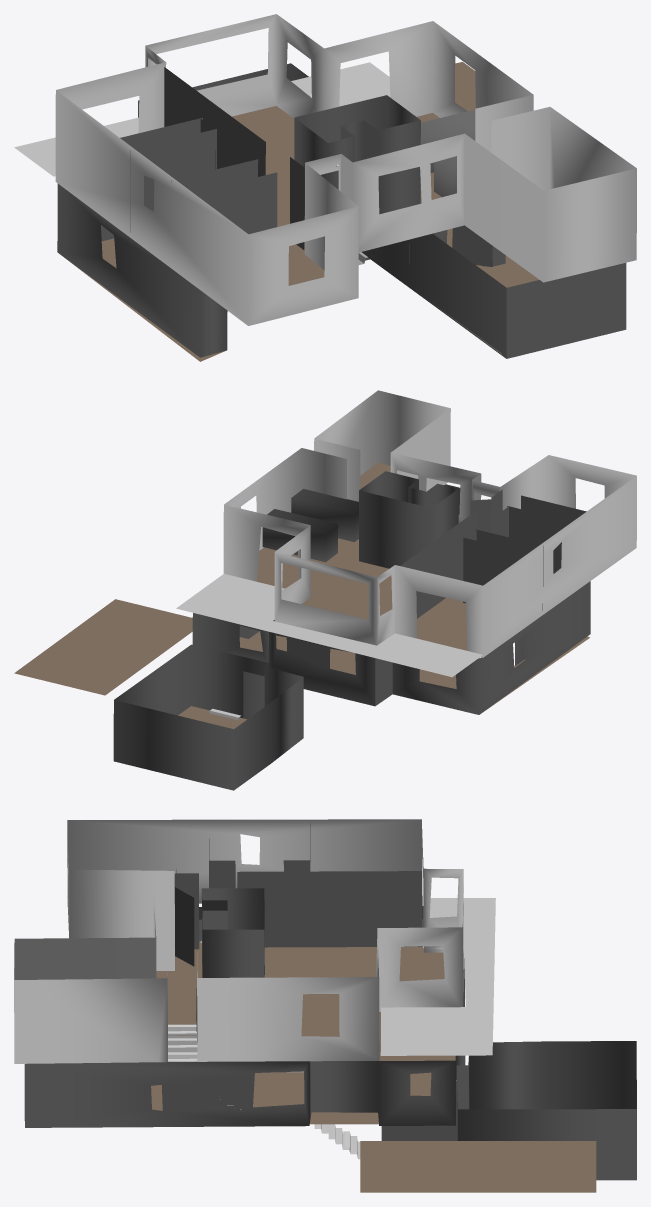
File: after-blender.dae
3 renders of one model, top to bottom at view 1: azimuth 30°, elevation 25°; view 2: azimuth 150°, elevation 25°; view 3: azimuth 270°, elevation 25°, orthographic. The views are drawn at different scales.
Visible parts, largest first — view 1: wallup_Plane_005, wallmid_Plane_006, wall_Plane_012, floor, wall_002_Plane_009, Plane_017_Plane_019, wall_006_Plane_016, wall_004_Plane_014, wall_005_Plane_015, wall_009_Plane_020, wallmid_001_Plane_022, wall_003_Plane_013 (+6 smaller); view 2: wallup_Plane_005, wallgreen_Plane_007, wallmid_Plane_006, Plane2, Plane_017_Plane_019, wall_Plane_012, floor, wall_002_Plane_009, wall_010_Plane_021, wall_009_Plane_020, wall_003_Plane_013, wall_005_Plane_015 (+5 smaller); view 3: wallup_Plane_005, wallmid_Plane_006, wallgreen_Plane_007, Plane2, wall_002_Plane_009, Plane_017_Plane_019, floor, wall_Plane_012, Plane1, wallup_001_Plane_024, wallplant_Plane_008, Grid_003_Grid_003 (+2 smaller).
Part boxes in pixels (box(x1,y1,x2,y2)): wallup_Plane_005: box(55, 14, 636, 325); wallmid_Plane_006: box(57, 183, 626, 358); wall_Plane_012: box(294, 95, 420, 215); floor: box(232, 106, 441, 285); wall_002_Plane_009: box(164, 67, 265, 176); Plane_017_Plane_019: box(14, 62, 390, 176); wall_006_Plane_016: box(193, 172, 277, 234); wall_004_Plane_014: box(130, 129, 216, 232); wall_005_Plane_015: box(171, 159, 258, 192); wall_009_Plane_020: box(420, 109, 475, 172); wallmid_001_Plane_022: box(452, 225, 492, 266); wall_003_Plane_013: box(120, 117, 202, 148); wallup_Plane_005: box(223, 390, 636, 657); wallgreen_Plane_007: box(113, 644, 303, 790); wallmid_Plane_006: box(192, 484, 590, 714); Plane2: box(14, 599, 192, 695); Plane_017_Plane_019: box(176, 574, 482, 677); wall_Plane_012: box(359, 471, 458, 568); floor: box(257, 462, 466, 650); wall_002_Plane_009: box(400, 510, 476, 618); wall_010_Plane_021: box(291, 489, 358, 542); wall_009_Plane_020: box(262, 509, 338, 562); wall_003_Plane_013: box(463, 537, 527, 603); wall_005_Plane_015: box(507, 506, 571, 573); wallup_Plane_005: box(14, 819, 463, 1063); wallmid_Plane_006: box(24, 906, 465, 1127); wallgreen_Plane_007: box(456, 1041, 636, 1180); Plane2: box(360, 1141, 596, 1192); wall_002_Plane_009: box(237, 871, 422, 947); Plane_017_Plane_019: box(380, 898, 495, 1055); floor: box(68, 904, 463, 1036); wall_Plane_012: box(201, 888, 264, 977); Plane1: box(253, 1072, 431, 1124); wallup_001_Plane_024: box(175, 887, 194, 966); wallplant_Plane_008: box(381, 1081, 457, 1140); Grid_003_Grid_003: box(168, 1024, 197, 1061).
Size of the model in its own units: 12.69 by 14.9 by 5.61.
